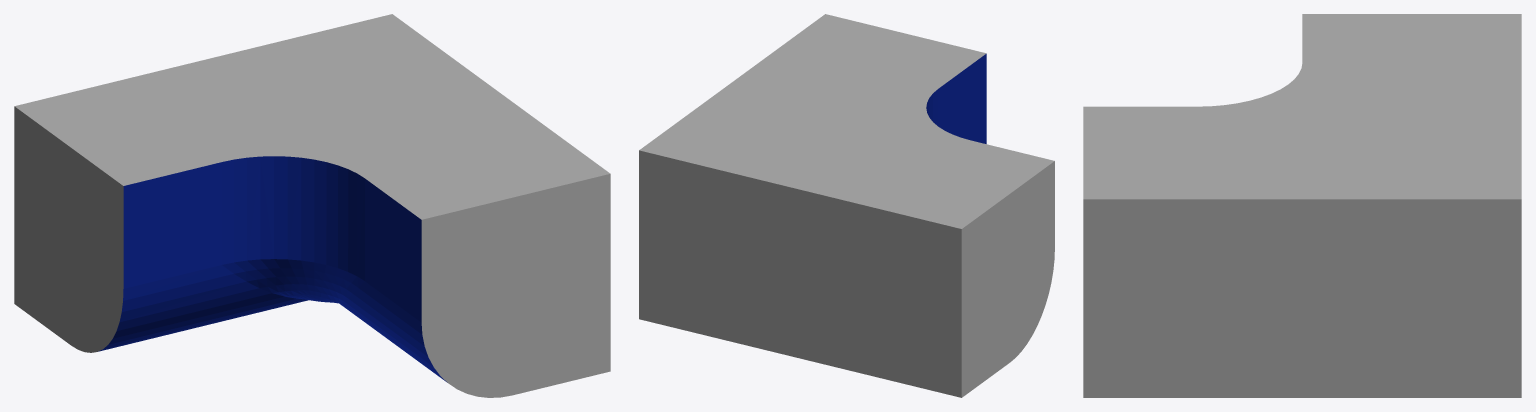
Rendered from case_112.fbx.
3 renders of one model, left to right at view 1: azimuth 30°, elevation 25°; view 2: azimuth 150°, elevation 25°; view 3: azimuth 270°, elevation 25°, orthographic. The views are drawn at different scales.
Visible parts, largest first — view 1: case_112; view 2: case_112; view 3: case_112.
Part boxes in pixels (x1=…): case_112: x1=14, y1=14, x2=610, y2=397; case_112: x1=639, y1=14, x2=1054, y2=397; case_112: x1=1083, y1=14, x2=1521, y2=397.
Size of the model in its own units: 1 by 1 by 0.5.
